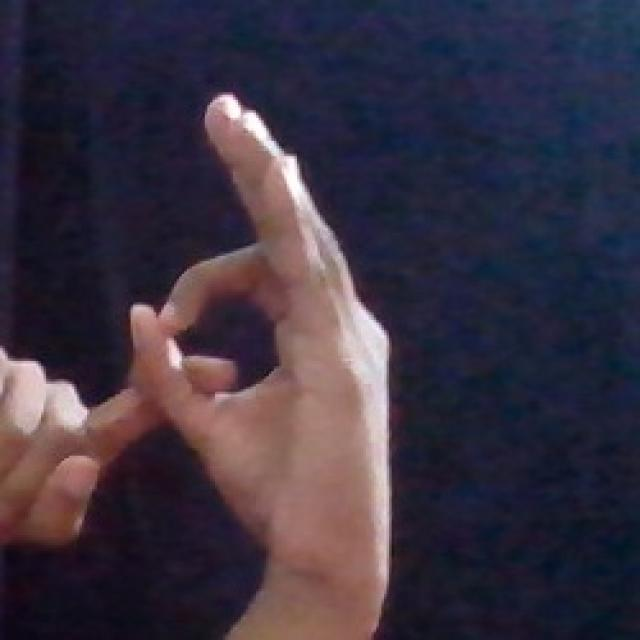Alphabet-Q: (0, 69, 408, 640)
